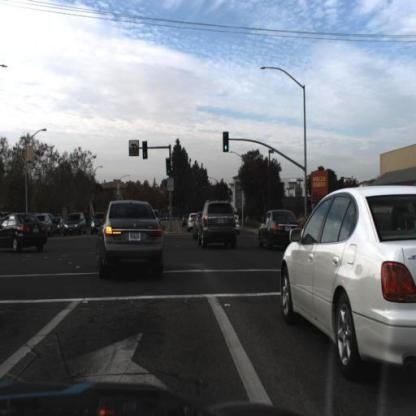car: (281, 182, 416, 371), (99, 199, 163, 280), (258, 204, 302, 257), (1, 214, 50, 254), (202, 195, 237, 249), (65, 211, 88, 235), (90, 212, 105, 238), (38, 214, 57, 234), (195, 209, 204, 240), (188, 213, 196, 236), (181, 208, 188, 232)
trafficLight-Green: (223, 134, 231, 155), (165, 160, 172, 178)
trafficLight-GreenLeft: (143, 143, 150, 161)
